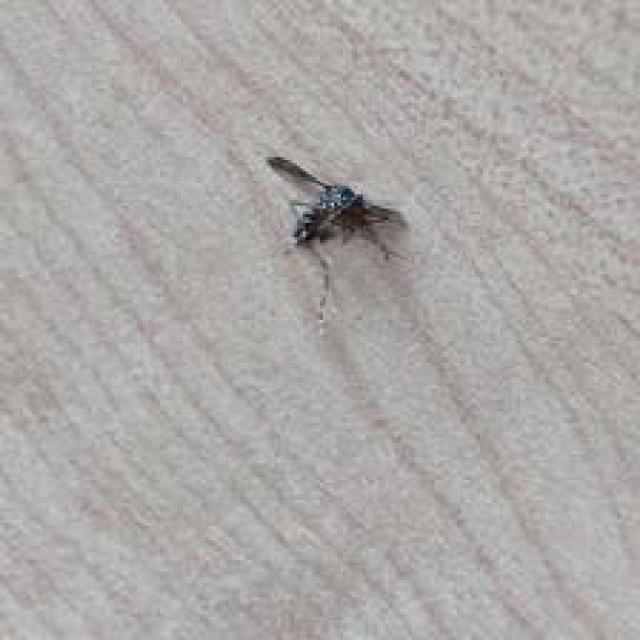Aedes albopictus: (264, 154, 410, 266)
